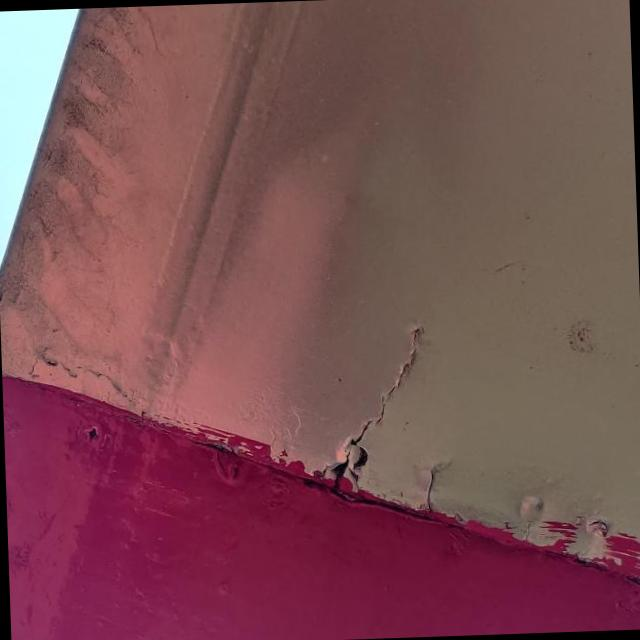Crack: (313, 326, 423, 492), (403, 459, 452, 512)
